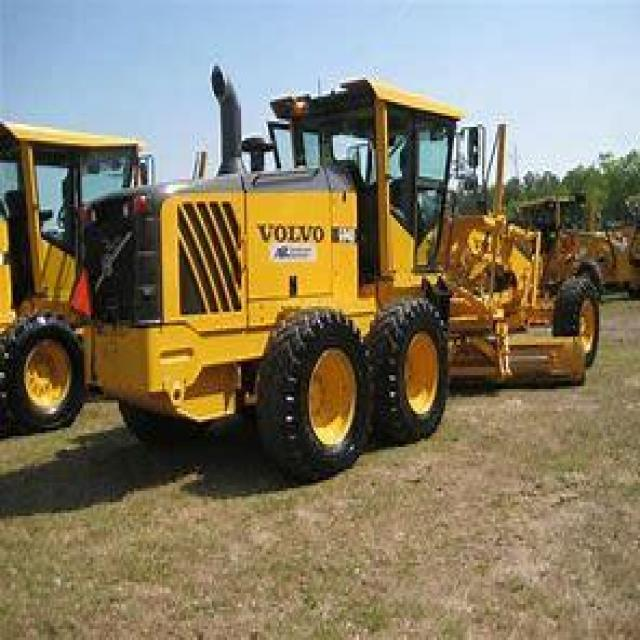Grader: (69, 55, 608, 477)
